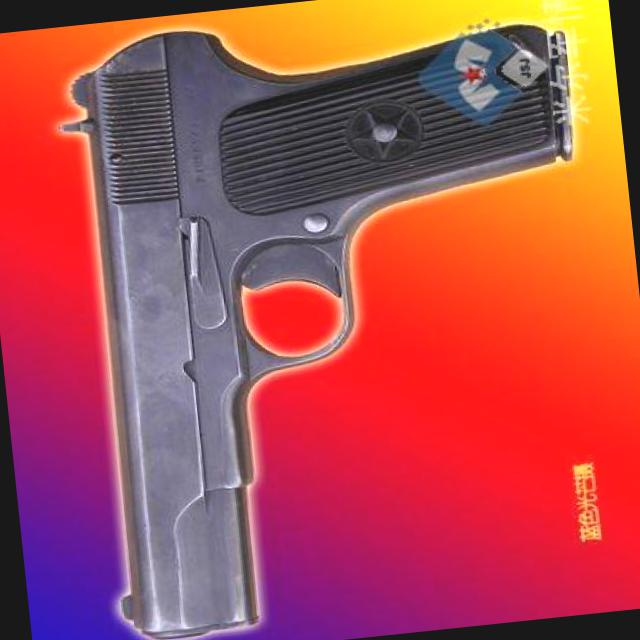handgun: (48, 0, 627, 639)
